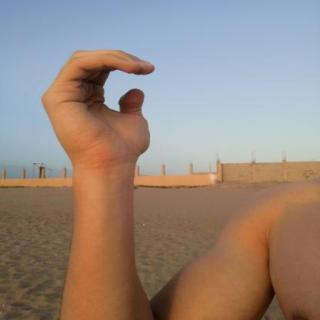JEEM: (28, 41, 165, 166)
